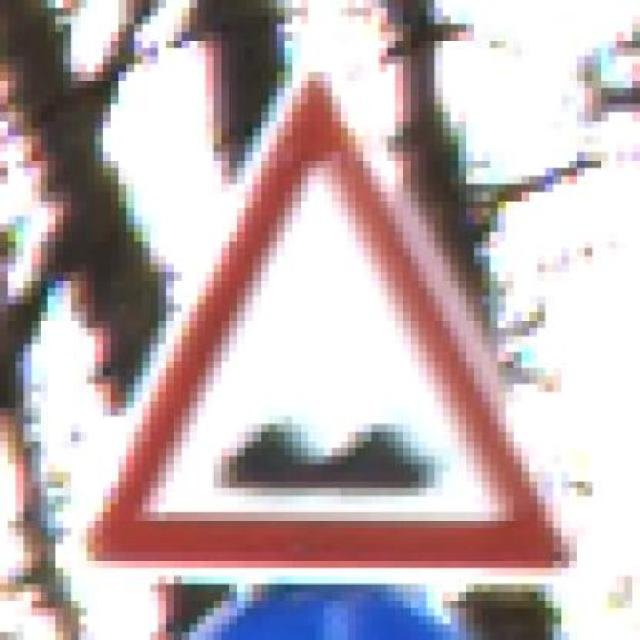Uneven Road: (63, 48, 585, 584)
